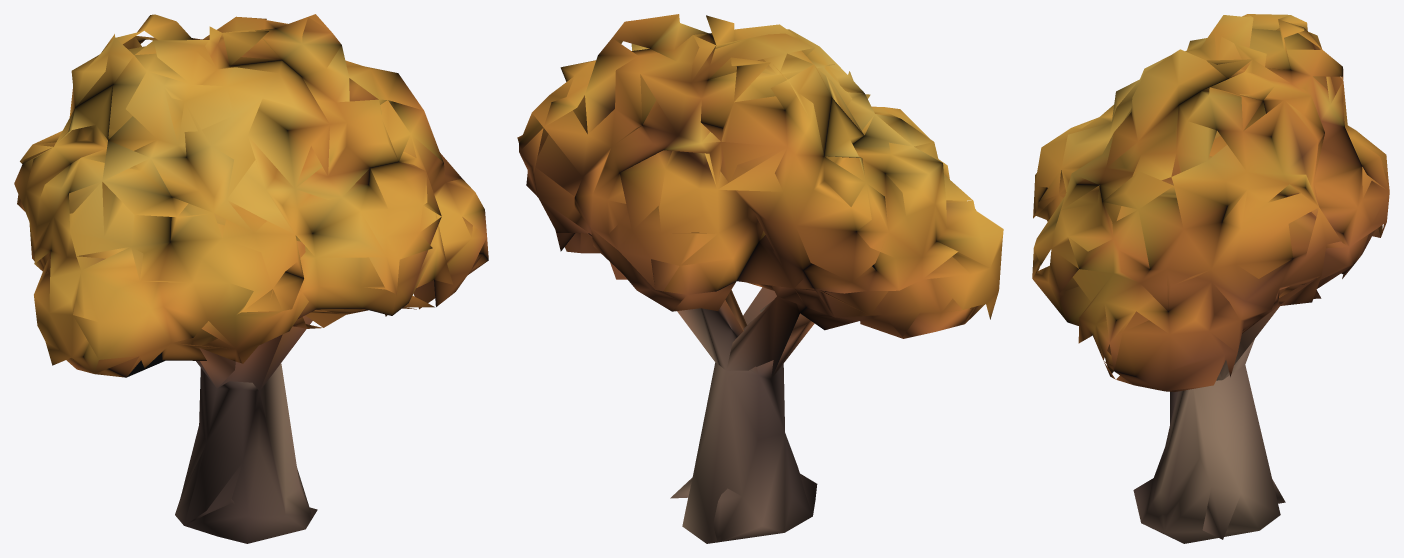
File: oak.glb
3 views of the same model, side by side, from view 1: azimuth 30°, elevation 25°; view 2: azimuth 150°, elevation 25°; view 3: azimuth 270°, elevation 25° (orthographic). The views are drawn at different scales.
Visible parts, largest first — view 1: oak; view 2: oak; view 3: oak.
Boxes of the visible parts, x1=… form: oak: x1=14, y1=14, x2=488, y2=543; oak: x1=517, y1=14, x2=1003, y2=543; oak: x1=1032, y1=14, x2=1389, y2=543.
Size of the model in its own units: 6.73 by 7.32 by 5.07.
